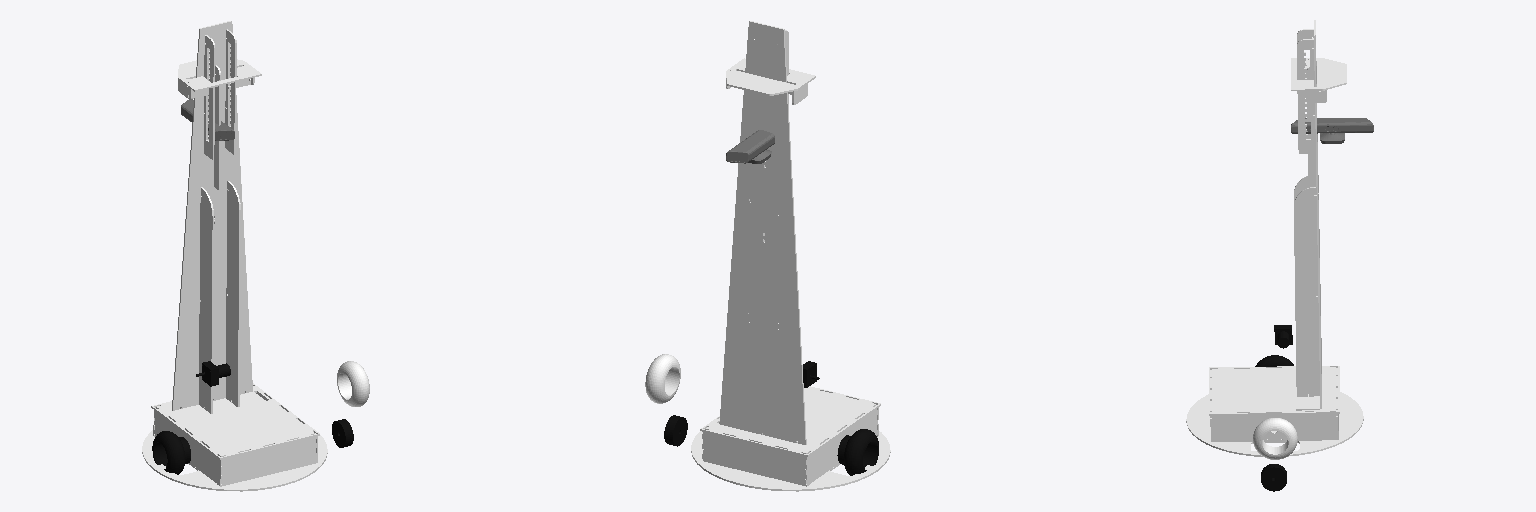
--- What the picture shows (computed from the rendered views, not written in the file) ---
The picture shows the robot from 3 angles, left to right: view 1: azimuth 30°, elevation 25°; view 2: azimuth 150°, elevation 25°; view 3: azimuth 270°, elevation 25°; orthographic projection.
Model robot_desc2 with 25 links and 24 joints (2 continuous, 22 fixed), rooted at base_link, posed every joint at zero.
Links seen in each view (by area): view 1: BBone, UWall, LBBone, RBBone, FWall, base_link, RWall, LWheel, RElevator, RWheel, Stage, LElevator (+3 smaller); view 2: BBone, UWall, BWall, base_link, Stage, LWheel, RWall, RWheel, Kinect, LHolder; view 3: UWall, LBBone, LWall, base_link, LElevator, Stage, Kinect, LWheel, BBone, LHolder.
Link boxes in pixels (x1,y1,x2,y2): BBone: [172, 21, 252, 410]; UWall: [151, 383, 319, 459]; LBBone: [226, 181, 240, 406]; RBBone: [199, 187, 213, 413]; FWall: [220, 436, 317, 486]; base_link: [142, 429, 327, 491]; RWall: [154, 411, 221, 485]; LWheel: [337, 361, 369, 406]; RElevator: [204, 35, 214, 159]; RWheel: [152, 431, 185, 474]; Stage: [178, 59, 261, 91]; LElevator: [225, 29, 236, 154]; BBone: [719, 21, 806, 444]; UWall: [700, 386, 880, 456]; BWall: [703, 432, 807, 486]; base_link: [691, 431, 890, 491]; Stage: [726, 58, 815, 95]; LWheel: [645, 354, 680, 403]; RWall: [804, 409, 877, 485]; RWheel: [844, 429, 878, 475]; Kinect: [726, 130, 774, 163]; LHolder: [664, 415, 687, 446]; UWall: [1209, 366, 1339, 415]; LBBone: [1294, 187, 1319, 396]; LWall: [1210, 414, 1338, 442]; base_link: [1186, 392, 1363, 456]; LElevator: [1297, 39, 1315, 153]; Stage: [1291, 58, 1346, 90]; Kinect: [1291, 118, 1373, 143]; LWheel: [1253, 418, 1297, 459]; BBone: [1314, 20, 1321, 408]; LHolder: [1261, 464, 1286, 491].
Size in the robot's own frame: 0.7731 by 0.6329 by 1.54 metres.
Meshes: 24 distinct files referenced, 24 mesh visuals loaded (24 binary STL).

robot.urdf — robot_desc2:
<?xml version="1.0" encoding="utf-8"?>
<!-- This URDF was automatically created by SolidWorks to URDF Exporter! Originally created by Stephen Brawner ([email redacted]) 
     Commit Version: 1.6.0-1-g15f4949  Build Version: 1.6.7594.29634
     For more information, please see http://wiki.ros.org/sw_urdf_exporter -->
<robot
  name="robot_desc2">
  <link
    name="base_link">
    <inertial>
      <origin
        xyz="-0.00309 0.032154 -0.00080422"
        rpy="0 0 0" />
      <mass
        value="1.5096" />
      <inertia
        ixx="0.036974"
        ixy="-4.5139E-09"
        ixz="2.8E-07"
        iyy="0.066747"
        iyz="0.00059586"
        izz="0.029801" />
    </inertial>
    <visual>
      <origin
        xyz="0 0 0"
        rpy="0 0 0" />
      <geometry>
        <mesh
          filename="package://robot_desc2/meshes/base_link.STL" />
      </geometry>
      <material
        name="">
        <color
          rgba="1 1 1 1" />
      </material>
    </visual>
    <collision>
      <origin
        xyz="0 0 0"
        rpy="0 0 0" />
      <geometry>
        <mesh
          filename="package://robot_desc2/meshes/base_link.STL" />
      </geometry>
    </collision>
  </link>
  <link
    name="RWall">
    <inertial>
      <origin
        xyz="-0.26007 0.30935 0.054624"
        rpy="0 0 0" />
      <mass
        value="0.25993" />
      <inertia
        ixx="0.0042142"
        ixy="8.2698E-19"
        ixz="-8.7535E-21"
        iyy="0.00023376"
        iyz="-3.1975E-08"
        izz="0.003982" />
    </inertial>
    <visual>
      <origin
        xyz="0 0 0"
        rpy="0 0 0" />
      <geometry>
        <mesh
          filename="package://robot_desc2/meshes/RWall.STL" />
      </geometry>
      <material
        name="">
        <color
          rgba="1 1 1 1" />
      </material>
    </visual>
    <collision>
      <origin
        xyz="0 0 0"
        rpy="0 0 0" />
      <geometry>
        <mesh
          filename="package://robot_desc2/meshes/RWall.STL" />
      </geometry>
    </collision>
  </link>
  <joint
    name="RWall_J"
    type="fixed">
    <origin
      xyz="0.082219 -0.30717 0.024187"
      rpy="0.016122 0 0" />
    <parent
      link="base_link" />
    <child
      link="RWall" />
    <axis
      xyz="0 0 0" />
  </joint>
  <link
    name="RMotor">
    <inertial>
      <origin
        xyz="0.0635746027198063 0.3093063 0.0369188809232349"
        rpy="0 0 0" />
      <mass
        value="0.174311166935646" />
      <inertia
        ixx="7.63049300613636E-05"
        ixy="-2.91448817026934E-20"
        ixz="-8.64726401443752E-07"
        iyy="0.000129582523229778"
        iyz="-2.11758236813575E-22"
        izz="0.000129389175352264" />
    </inertial>
    <visual>
      <origin
        xyz="0 0 0"
        rpy="0 0 0" />
      <geometry>
        <mesh
          filename="package://robot_desc2/meshes/RMotor.STL" />
      </geometry>
      <material
        name="">
        <color
          rgba="0.0980392156862745 0.0980392156862745 0.0980392156862745 1" />
      </material>
    </visual>
    <collision>
      <origin
        xyz="0 0 0"
        rpy="0 0 0" />
      <geometry>
        <mesh
          filename="package://robot_desc2/meshes/RMotor.STL" />
      </geometry>
    </collision>
  </link>
  <joint
    name="RMotor_J"
    type="fixed">
    <origin
      xyz="-0.16351 0.61861 0"
      rpy="0 0 3.1416" />
    <parent
      link="RWall" />
    <child
      link="RMotor" />
    <axis
      xyz="0 0 0" />
  </joint>
  <link
    name="RHolder">
    <inertial>
      <origin
        xyz="-0.015 -1.3878E-17 -6.5052E-19"
        rpy="0 0 0" />
      <mass
        value="0.18623" />
      <inertia
        ixx="0.00019312"
        ixy="2.5799E-37"
        ixz="1.9015E-20"
        iyy="0.00011053"
        iyz="3.7377E-37"
        izz="0.00011053" />
    </inertial>
    <visual>
      <origin
        xyz="0 0 0"
        rpy="0 0 0" />
      <geometry>
        <mesh
          filename="package://robot_desc2/meshes/RHolder.STL" />
      </geometry>
      <material
        name="">
        <color
          rgba="0.098039 0.098039 0.098039 1" />
      </material>
    </visual>
    <collision>
      <origin
        xyz="0 0 0"
        rpy="0 0 0" />
      <geometry>
        <mesh
          filename="package://robot_desc2/meshes/RHolder.STL" />
      </geometry>
    </collision>
  </link>
  <joint
    name="RHolder_J"
    type="fixed">
    <origin
      xyz="0.10957 0.30931 0.04693"
      rpy="1.5547 0 3.1416" />
    <parent
      link="RMotor" />
    <child
      link="RHolder" />
    <axis
      xyz="1 0 0" />
  </joint>
  <link
    name="LWall">
    <inertial>
      <origin
        xyz="0.0963656 0.306947014043264 0.0546235621384063"
        rpy="0 0 0" />
      <mass
        value="0.259931483020872" />
      <inertia
        ixx="0.00421417942511159"
        ixy="5.19830171192504E-19"
        ixz="8.96205254962918E-21"
        iyy="0.000233764744170253"
        iyz="-3.19752741135293E-08"
        izz="0.00398197426983946" />
    </inertial>
    <visual>
      <origin
        xyz="0 0 0"
        rpy="0 0 0" />
      <geometry>
        <mesh
          filename="package://robot_desc2/meshes/LWall.STL" />
      </geometry>
      <material
        name="">
        <color
          rgba="1 1 1 1" />
      </material>
    </visual>
    <collision>
      <origin
        xyz="0 0 0"
        rpy="0 0 0" />
      <geometry>
        <mesh
          filename="package://robot_desc2/meshes/LWall.STL" />
      </geometry>
    </collision>
  </link>
  <joint
    name="LWall"
    type="fixed">
    <origin
      xyz="0.082219 -0.30717 0.024187"
      rpy="0.016122 0 0" />
    <parent
      link="base_link" />
    <child
      link="LWall" />
    <axis
      xyz="0 0 0" />
  </joint>
  <link
    name="LMotor">
    <inertial>
      <origin
        xyz="0.0633746027198063 0.3069061 0.036918880923235"
        rpy="0 0 0" />
      <mass
        value="0.174311166935646" />
      <inertia
        ixx="7.63049300613636E-05"
        ixy="-8.61740218545493E-20"
        ixz="-8.64726401443746E-07"
        iyy="0.000129582523229778"
        iyz="-2.11758236813575E-22"
        izz="0.000129389175352264" />
    </inertial>
    <visual>
      <origin
        xyz="0 0 0"
        rpy="0 0 0" />
      <geometry>
        <mesh
          filename="package://robot_desc2/meshes/LMotor.STL" />
      </geometry>
      <material
        name="">
        <color
          rgba="0.0980392156862745 0.0980392156862745 0.0980392156862745 1" />
      </material>
    </visual>
    <collision>
      <origin
        xyz="0 0 0"
        rpy="0 0 0" />
      <geometry>
        <mesh
          filename="package://robot_desc2/meshes/LMotor.STL" />
      </geometry>
    </collision>
  </link>
  <joint
    name="LMotor_J"
    type="fixed">
    <origin
      xyz="0 0 0"
      rpy="0 0 0" />
    <parent
      link="LWall" />
    <child
      link="LMotor" />
    <axis
      xyz="0 0 0" />
  </joint>
  <link
    name="LHolder">
    <inertial>
      <origin
        xyz="0.015 0 -8.67361737988404E-19"
        rpy="0 0 0" />
      <mass
        value="0.186233612504803" />
      <inertia
        ixx="0.000193124256167481"
        ixy="2.57986041235794E-37"
        ixz="1.90147164257299E-20"
        iyy="0.000110529649021601"
        iyz="3.73766126798668E-37"
        izz="0.000110529649021601" />
    </inertial>
    <visual>
      <origin
        xyz="0 0 0"
        rpy="0 0 0" />
      <geometry>
        <mesh
          filename="package://robot_desc2/meshes/LHolder.STL" />
      </geometry>
      <material
        name="">
        <color
          rgba="0.0980392156862745 0.0980392156862745 0.0980392156862745 1" />
      </material>
    </visual>
    <collision>
      <origin
        xyz="0 0 0"
        rpy="0 0 0" />
      <geometry>
        <mesh
          filename="package://robot_desc2/meshes/LHolder.STL" />
      </geometry>
    </collision>
  </link>
  <joint
    name="LHolder_J"
    type="fixed">
    <origin
      xyz="0.10937 0.30691 0.04693"
      rpy="1.5547 0 0" />
    <parent
      link="LMotor" />
    <child
      link="LHolder" />
    <axis
      xyz="1 0 0" />
  </joint>
  <link
    name="FWall">
    <inertial>
      <origin
        xyz="-0.0834212256064657 0.0938861000000002 0.0545396939287937"
        rpy="0 0 0" />
      <mass
        value="0.22086451023762" />
      <inertia
        ixx="0.000198305308587292"
        ixy="-4.89506874945099E-20"
        ixz="-4.72815915055346E-08"
        iyy="0.00254369619199725"
        iyz="6.7762635780344E-21"
        izz="0.00234671607047139" />
    </inertial>
    <visual>
      <origin
        xyz="0 0 0"
        rpy="0 0 0" />
      <geometry>
        <mesh
          filename="package://robot_desc2/meshes/FWall.STL" />
      </geometry>
      <material
        name="">
        <color
          rgba="1 1 1 1" />
      </material>
    </visual>
    <collision>
      <origin
        xyz="0 0 0"
        rpy="0 0 0" />
      <geometry>
        <mesh
          filename="package://robot_desc2/meshes/FWall.STL" />
      </geometry>
    </collision>
  </link>
  <joint
    name="FWall_J"
    type="fixed">
    <origin
      xyz="0.0822192517167714 -0.307167638392834 0.0241874937534729"
      rpy="0.0161222628924041 0 0" />
    <parent
      link="base_link" />
    <child
      link="FWall" />
    <axis
      xyz="0 0 0" />
  </joint>
  <link
    name="BWall">
    <inertial>
      <origin
        xyz="-0.0837958256064657 0.5201261 0.0545396939287938"
        rpy="0 0 0" />
      <mass
        value="0.220864510237622" />
      <inertia
        ixx="0.000198305308587294"
        ixy="-3.63112643371231E-20"
        ixz="-4.72815915055665E-08"
        iyy="0.00254369619199728"
        iyz="-3.3881317890172E-20"
        izz="0.00234671607047141" />
    </inertial>
    <visual>
      <origin
        xyz="0 0 0"
        rpy="0 0 0" />
      <geometry>
        <mesh
          filename="package://robot_desc2/meshes/BWall.STL" />
      </geometry>
      <material
        name="">
        <color
          rgba="1 1 1 1" />
      </material>
    </visual>
    <collision>
      <origin
        xyz="0 0 0"
        rpy="0 0 0" />
      <geometry>
        <mesh
          filename="package://robot_desc2/meshes/BWall.STL" />
      </geometry>
    </collision>
  </link>
  <joint
    name="BWall_J"
    type="fixed">
    <origin
      xyz="0.0822192517167714 -0.307167638392834 0.0241874937534729"
      rpy="0.0161222628924041 0 0" />
    <parent
      link="base_link" />
    <child
      link="BWall" />
    <axis
      xyz="0 0 0" />
  </joint>
  <link
    name="UWall">
    <inertial>
      <origin
        xyz="-0.0848120800930342 0.30577429822358 0.1090994"
        rpy="0 0 0" />
      <mass
        value="0.950849473887881" />
      <inertia
        ixx="0.015160328757964"
        ixy="0.000110416902811185"
        ixz="-2.2446373102239E-20"
        iyy="0.0106172485278987"
        iyz="8.40256683676266E-19"
        izz="0.0257718721890193" />
    </inertial>
    <visual>
      <origin
        xyz="0 0 0"
        rpy="0 0 0" />
      <geometry>
        <mesh
          filename="package://robot_desc2/meshes/UWall.STL" />
      </geometry>
      <material
        name="">
        <color
          rgba="1 1 1 1" />
      </material>
    </visual>
    <collision>
      <origin
        xyz="0 0 0"
        rpy="0 0 0" />
      <geometry>
        <mesh
          filename="package://robot_desc2/meshes/UWall.STL" />
      </geometry>
    </collision>
  </link>
  <joint
    name="UWall_J"
    type="fixed">
    <origin
      xyz="0.0822192517167714 -0.307167638392834 0.0241874937534729"
      rpy="0.0161222628924041 0 0" />
    <parent
      link="base_link" />
    <child
      link="UWall" />
    <axis
      xyz="0 0 0" />
  </joint>
  <link
    name="BBone">
    <inertial>
      <origin
        xyz="-0.0787827178917998 0.4658796 0.687775610420949"
        rpy="0 0 0" />
      <mass
        value="1.69381947157314" />
      <inertia
        ixx="0.241359185522964"
        ixy="-6.54147800672129E-20"
        ixz="-3.75269982353657E-12"
        iyy="0.248752698140501"
        iyz="2.64274279543342E-18"
        izz="0.00740367553436561" />
    </inertial>
    <visual>
      <origin
        xyz="0 0 0"
        rpy="0 0 0" />
      <geometry>
        <mesh
          filename="package://robot_desc2/meshes/BBone.STL" />
      </geometry>
      <material
        name="">
        <color
          rgba="1 1 1 1" />
      </material>
    </visual>
    <collision>
      <origin
        xyz="0 0 0"
        rpy="0 0 0" />
      <geometry>
        <mesh
          filename="package://robot_desc2/meshes/BBone.STL" />
      </geometry>
    </collision>
  </link>
  <joint
    name="BBone_J"
    type="fixed">
    <origin
      xyz="0 0 0"
      rpy="0 0 0" />
    <parent
      link="UWall" />
    <child
      link="BBone" />
    <axis
      xyz="0 0 0" />
  </joint>
  <link
    name="MBBHinge">
    <inertial>
      <origin
        xyz="-0.0787827178879982 0.449178530210602 1.09683396755806"
        rpy="0 0 0" />
      <mass
        value="0.0784521456427975" />
      <inertia
        ixx="0.00123951914226371"
        ixy="6.8939312862355E-21"
        ixz="-5.24214085130467E-19"
        iyy="0.00123363922526243"
        iyz="-1.41602641529675E-06"
        izz="6.35062987513342E-06" />
    </inertial>
    <visual>
      <origin
        xyz="0 0 0"
        rpy="0 0 0" />
      <geometry>
        <mesh
          filename="package://robot_desc2/meshes/MBBHinge.STL" />
      </geometry>
      <material
        name="">
        <color
          rgba="1 1 1 1" />
      </material>
    </visual>
    <collision>
      <origin
        xyz="0 0 0"
        rpy="0 0 0" />
      <geometry>
        <mesh
          filename="package://robot_desc2/meshes/MBBHinge.STL" />
      </geometry>
    </collision>
  </link>
  <joint
    name="MBBHinge_J"
    type="fixed">
    <origin
      xyz="0 0 0"
      rpy="0 0 0" />
    <parent
      link="BBone" />
    <child
      link="MBBHinge" />
    <axis
      xyz="0 0 0" />
  </joint>
  <link
    name="RElevator">
    <inertial>
      <origin
        xyz="-0.118782717887998 0.432755373756842 1.2206750396997"
        rpy="0 0 0" />
      <mass
        value="0.120380143662927" />
      <inertia
        ixx="0.00202358604897058"
        ixy="1.14490073557874E-22"
        ixz="-9.03439660911969E-20"
        iyy="0.00197948344561233"
        iyz="-3.19340679459731E-06"
        izz="4.48248842202339E-05" />
    </inertial>
    <visual>
      <origin
        xyz="0 0 0"
        rpy="0 0 0" />
      <geometry>
        <mesh
          filename="package://robot_desc2/meshes/RElevator.STL" />
      </geometry>
      <material
        name="">
        <color
          rgba="1 1 1 1" />
      </material>
    </visual>
    <collision>
      <origin
        xyz="0 0 0"
        rpy="0 0 0" />
      <geometry>
        <mesh
          filename="package://robot_desc2/meshes/RElevator.STL" />
      </geometry>
    </collision>
  </link>
  <joint
    name="RElevator_J"
    type="fixed">
    <origin
      xyz="0 0 0"
      rpy="0 0 0" />
    <parent
      link="BBone" />
    <child
      link="RElevator" />
    <axis
      xyz="0 0 0" />
  </joint>
  <link
    name="RBCover">
    <inertial>
      <origin
        xyz="-0.151597026310095 0.435 1.20306288528394"
        rpy="0 0 0" />
      <mass
        value="0.0213060018725367" />
      <inertia
        ixx="4.87039064175613E-06"
        ixy="-6.46855239016468E-22"
        ixz="6.12560983430486E-07"
        iyy="1.42979171119072E-05"
        iyz="-1.44260298829248E-21"
        izz="9.55536248138631E-06" />
    </inertial>
    <visual>
      <origin
        xyz="0 0 0"
        rpy="0 0 0" />
      <geometry>
        <mesh
          filename="package://robot_desc2/meshes/RBCover.STL" />
      </geometry>
      <material
        name="">
        <color
          rgba="1 1 1 1" />
      </material>
    </visual>
    <collision>
      <origin
        xyz="0 0 0"
        rpy="0 0 0" />
      <geometry>
        <mesh
          filename="package://robot_desc2/meshes/RBCover.STL" />
      </geometry>
    </collision>
  </link>
  <joint
    name="RBCover_J"
    type="fixed">
    <origin
      xyz="-0.00378271788799672 -0.00312040000000041 0.0566252457261201"
      rpy="0 0 0" />
    <parent
      link="RElevator" />
    <child
      link="RBCover" />
    <axis
      xyz="0 0 0" />
  </joint>
  <link
    name="RBWall">
    <inertial>
      <origin
        xyz="-0.190000055730344 0.464457316351892 1.20478878755067"
        rpy="0 0 0" />
      <mass
        value="0.02592607709171" />
      <inertia
        ixx="2.2145918999036E-05"
        ixy="-4.34433994599648E-22"
        ixz="1.66665387127263E-22"
        iyy="5.60309159155988E-06"
        iyz="1.87271315746657E-07"
        izz="1.66983838700264E-05" />
    </inertial>
    <visual>
      <origin
        xyz="0 0 0"
        rpy="0 0 0" />
      <geometry>
        <mesh
          filename="package://robot_desc2/meshes/RBWall.STL" />
      </geometry>
      <material
        name="">
        <color
          rgba="1 1 1 1" />
      </material>
    </visual>
    <collision>
      <origin
        xyz="0 0 0"
        rpy="0 0 0" />
      <geometry>
        <mesh
          filename="package://robot_desc2/meshes/RBWall.STL" />
      </geometry>
    </collision>
  </link>
  <joint
    name="RBWall_J"
    type="fixed">
    <origin
      xyz="0 0 0"
      rpy="0 0 0" />
    <parent
      link="RBCover" />
    <child
      link="RBWall" />
    <axis
      xyz="0 0 0" />
  </joint>
  <link
    name="LElevator">
    <inertial>
      <origin
        xyz="-0.0387827178879983 0.432755373756842 1.2206750396997"
        rpy="0 0 0" />
      <mass
        value="0.120380143662931" />
      <inertia
        ixx="0.00202358604897065"
        ixy="2.80050121403474E-22"
        ixz="-9.34089010374759E-20"
        iyy="0.00197948344561239"
        iyz="-3.19340679459742E-06"
        izz="4.48248842202354E-05" />
    </inertial>
    <visual>
      <origin
        xyz="0 0 0"
        rpy="0 0 0" />
      <geometry>
        <mesh
          filename="package://robot_desc2/meshes/LElevator.STL" />
      </geometry>
      <material
        name="">
        <color
          rgba="1 1 1 1" />
      </material>
    </visual>
    <collision>
      <origin
        xyz="0 0 0"
        rpy="0 0 0" />
      <geometry>
        <mesh
          filename="package://robot_desc2/meshes/LElevator.STL" />
      </geometry>
    </collision>
  </link>
  <joint
    name="LElevator_J"
    type="fixed">
    <origin
      xyz="0 0 0"
      rpy="0 0 0" />
    <parent
      link="BBone" />
    <child
      link="LElevator" />
    <axis
      xyz="0 0 0" />
  </joint>
  <link
    name="LBCover">
    <inertial>
      <origin
        xyz="0.00159702631009202 0.435000000000001 1.20306288528394"
        rpy="0 0 0" />
      <mass
        value="0.0213060018725367" />
      <inertia
        ixx="4.87039064175611E-06"
        ixy="1.09022404734489E-21"
        ixz="-6.12560983430432E-07"
        iyy="1.4297917111907E-05"
        iyz="-1.45583787809333E-21"
        izz="9.55536248138611E-06" />
    </inertial>
    <visual>
      <origin
        xyz="0 0 0"
        rpy="0 0 0" />
      <geometry>
        <mesh
          filename="package://robot_desc2/meshes/LBCover.STL" />
      </geometry>
      <material
        name="">
        <color
          rgba="1 1 1 1" />
      </material>
    </visual>
    <collision>
      <origin
        xyz="0 0 0"
        rpy="0 0 0" />
      <geometry>
        <mesh
          filename="package://robot_desc2/meshes/LBCover.STL" />
      </geometry>
    </collision>
  </link>
  <joint
    name="LBCover_J"
    type="fixed">
    <origin
      xyz="-0.0037827 -0.0031204 0.056625"
      rpy="0 0 0" />
    <parent
      link="LElevator" />
    <child
      link="LBCover" />
    <axis
      xyz="0 0 0" />
  </joint>
  <link
    name="LBWall">
    <inertial>
      <origin
        xyz="0.0400000557303411 0.464457316351892 1.20478878755067"
        rpy="0 0 0" />
      <mass
        value="0.0259260770917091" />
      <inertia
        ixx="2.21459189990352E-05"
        ixy="-1.4358920969894E-21"
        ixz="2.6851133953307E-20"
        iyy="5.60309159155971E-06"
        iyz="1.87271315746579E-07"
        izz="1.66983838700257E-05" />
    </inertial>
    <visual>
      <origin
        xyz="0 0 0"
        rpy="0 0 0" />
      <geometry>
        <mesh
          filename="package://robot_desc2/meshes/LBWall.STL" />
      </geometry>
      <material
        name="">
        <color
          rgba="1 1 1 1" />
      </material>
    </visual>
    <collision>
      <origin
        xyz="0 0 0"
        rpy="0 0 0" />
      <geometry>
        <mesh
          filename="package://robot_desc2/meshes/LBWall.STL" />
      </geometry>
    </collision>
  </link>
  <joint
    name="LBWall_J"
    type="fixed">
    <origin
      xyz="0 0 0"
      rpy="0 0 0" />
    <parent
      link="LBCover" />
    <child
      link="LBWall" />
    <axis
      xyz="0 0 0" />
  </joint>
  <link
    name="Stage">
    <inertial>
      <origin
        xyz="-0.0750000000000013 0.480343747910807 1.231"
        rpy="0 0 0" />
      <mass
        value="0.211120351736145" />
      <inertia
        ixx="0.000655067411968549"
        ixy="1.78554993831274E-18"
        ixz="7.11454880084177E-22"
        iyy="0.00109847839714028"
        iyz="3.01543729222531E-19"
        izz="0.00175227908699841" />
    </inertial>
    <visual>
      <origin
        xyz="0 0 0"
        rpy="0 0 0" />
      <geometry>
        <mesh
          filename="package://robot_desc2/meshes/Stage.STL" />
      </geometry>
      <material
        name="">
        <color
          rgba="1 1 1 1" />
      </material>
    </visual>
    <collision>
      <origin
        xyz="0 0 0"
        rpy="0 0 0" />
      <geometry>
        <mesh
          filename="package://robot_desc2/meshes/Stage.STL" />
      </geometry>
    </collision>
  </link>
  <joint
    name="Stage_J"
    type="fixed">
    <origin
      xyz="-0.0037827 -0.0031204 0.056625"
      rpy="0 0 0" />
    <parent
      link="BBone" />
    <child
      link="Stage" />
    <axis
      xyz="0 0 0" />
  </joint>
  <link
   name="Kinect">
    <inertial>
      <origin
        xyz="4.52836356561845E-05 0.00225040359550244 0.0310718193123996"
        rpy="0 0 0" />
      <mass
        value="0.658662600748487" />
      <inertia
        ixx="0.000269654836796406"
        ixy="9.35627651229598E-07"
        ixz="-4.36299238413064E-08"
        iyy="0.00298640049257821"
        iyz="5.71453317266783E-06"
        izz="0.00311136626737699" />
    </inertial>
    <visual>
      <origin
        xyz="0 0 0"
        rpy="0 0 0" />
      <geometry>
        <mesh
          filename="package://robot_desc2/meshes/Kinect.STL" />
      </geometry>
      <material
        name="">
        <color
          rgba="0.494117647058824 0.494117647058824 0.494117647058824 1" />
      </material>
    </visual>
    <collision>
      <origin
        xyz="0 0 0"
        rpy="0 0 0" />
      <geometry>
        <mesh
          filename="package://robot_desc2/meshes/Kinect.STL" />
      </geometry>
    </collision>
  </link>
  <joint
    name="Kinect_J"
    type="fixed">
    <origin
      xyz="-0.075 0.52225 1.000"
      rpy="0 0 1.5708" />
    <parent
      link="Stage" />
    <child
      link="Kinect" />
    <axis
      xyz="0 0 0" />
  </joint>

   <link
   name="camera_link">
    <inertial>
      <origin
        xyz="0 0 0"
        rpy="0 0 0" />
      <mass
        value="0" />
      <inertia
        ixx="0"
        ixy="0"
        ixz="0"
        iyy="0"
        iyz="0"
        izz="0" />
    </inertial>
    <visual>
      <origin
        xyz="0 0 0"
        rpy="0 0 0" />
    </visual>
  </link>
  <joint
    name="camera_link_joint"
    type="fixed">
    <origin
      xyz="0 0 0"
      rpy="0 0 -1.57" />
    <parent
      link="Kinect" />
    <child
      link="camera_link" />
    <axis
      xyz="0 0 0" />
  </joint>


  <link
    name="RBBone">
    <inertial>
      <origin
        xyz="-0.12878275 0.423830416863484 0.492738221550915"
        rpy="0 0 0" />
      <mass
        value="0.364837635287879" />
      <inertia
        ixx="0.0181196346933366"
        ixy="-1.2269351145855E-20"
        ixz="9.12314016495178E-21"
        iyy="0.0179305052054176"
        iyz="-8.50071245241008E-05"
        izz="0.000191318513730686" />
    </inertial>
    <visual>
      <origin
        xyz="0 0 0"
        rpy="0 0 0" />
      <geometry>
        <mesh
          filename="package://robot_desc2/meshes/RBBone.STL" />
      </geometry>
      <material
        name="">
        <color
          rgba="1 1 1 1" />
      </material>
    </visual>
    <collision>
      <origin
        xyz="0 0 0"
        rpy="0 0 0" />
      <geometry>
        <mesh
          filename="package://robot_desc2/meshes/RBBone.STL" />
      </geometry>
    </collision>
  </link>
  <joint
    name="RBBone_J"
    type="fixed">
    <origin
      xyz="0 0 0"
      rpy="0 0 0" />
    <parent
      link="UWall" />
    <child
      link="RBBone" />
    <axis
      xyz="0 0 0" />
  </joint>
  <link
    name="LBBone">
    <inertial>
      <origin
        xyz="-0.0287827500000005 0.423830416863484 0.492738221550913"
        rpy="0 0 0" />
      <mass
        value="0.364837635287876" />
      <inertia
        ixx="0.0181196346933365"
        ixy="-2.05096590819343E-19"
        ixz="-3.55223997282831E-18"
        iyy="0.0179305052054175"
        iyz="-8.50071245240919E-05"
        izz="0.000191318513730684" />
    </inertial>
    <visual>
      <origin
        xyz="0 0 0"
        rpy="0 0 0" />
      <geometry>
        <mesh
          filename="package://robot_desc2/meshes/LBBone.STL" />
      </geometry>
      <material
        name="">
        <color
          rgba="1 1 1 1" />
      </material>
    </visual>
    <collision>
      <origin
        xyz="0 0 0"
        rpy="0 0 0" />
      <geometry>
        <mesh
          filename="package://robot_desc2/meshes/LBBone.STL" />
      </geometry>
    </collision>
  </link>
  <joint
    name="LBBone_J"
    type="fixed">
    <origin
      xyz="0 0 0"
      rpy="0 0 0" />
    <parent
      link="UWall" />
    <child
      link="LBBone" />
    <axis
      xyz="0 0 0" />
  </joint>
  <link
    name="RWheel">
    <inertial>
      <origin
        xyz="-0.0310000000000001 1.80411241501588E-16 -1.64798730217797E-17"
        rpy="0 0 0" />
      <mass
        value="0.551599291315901" />
      <inertia
        ixx="0.00197797363499529"
        ixy="-4.78762120572077E-18"
        ixz="4.81482486096809E-35"
        iyy="0.00111551247187228"
        iyz="2.71050543121376E-20"
        izz="0.00111551247187228" />
    </inertial>
    <visual>
      <origin
        xyz="0 0 0"
        rpy="0 0 0" />
      <geometry>
        <mesh
          filename="package://robot_desc2/meshes/RWheel.STL" />
      </geometry>
      <material
        name="">
        <color
          rgba="0.0980392156862745 0.0980392156862745 0.0980392156862745 1" />
      </material>
    </visual>
    <collision>
      <origin
        xyz="0 0 0"
        rpy="0 0 0" />
      <geometry>
        <mesh
          filename="package://robot_desc2/meshes/RWheel.STL" />
      </geometry>
    </collision>
  </link>
  <joint
    name="RWheel_J"
    type="continuous">
    <origin
      xyz="-0.21750 0.0013419 0.076098"
      rpy="1.4527 0 0" />
    <parent
      link="base_link" />
    <child
      link="RWheel" />
    <axis
      xyz="1 0 0" />
  </joint>
  <link
    name="LWheel">
    <inertial>
      <origin
        xyz="0 0 0"
        rpy="0 0 0" />
      <mass
        value="0" />
      <inertia
        ixx="0"
        ixy="0"
        ixz="0"
        iyy="0"
        iyz="0"
        izz="0" />
    </inertial>
    <visual>
      <origin
        xyz="0 0 0"
        rpy="0 0 0" />
      <geometry>
        <mesh
          filename="package://robot_desc2/meshes/LWheel.STL" />
      </geometry>
      <material
        name="">
        <color
          rgba="1 1 1 1" />
      </material>
    </visual>
    <collision>
      <origin
        xyz="0 0 0"
        rpy="0 0 0" />
      <geometry>
        <mesh
          filename="package://robot_desc2/meshes/LWheel.STL" />
      </geometry>
    </collision>
  </link>
  <joint
    name="LWheel_J"
    type="continuous">
    <origin
      xyz="0.21750 -0.001058 0.076059"
      rpy="-1.2758 0 0" />
    <parent
      link="base_link" />
    <child
      link="LWheel" />
    <axis
      xyz="1 0 0" />
  </joint>
</robot>
